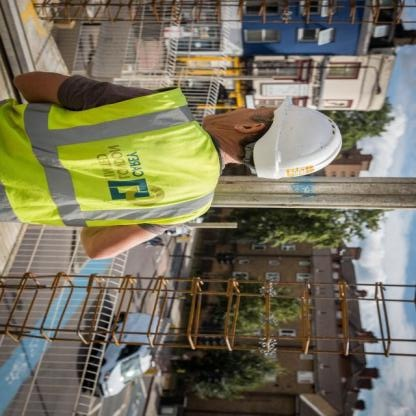vest: (4, 85, 224, 239)
white: (229, 92, 345, 186)
